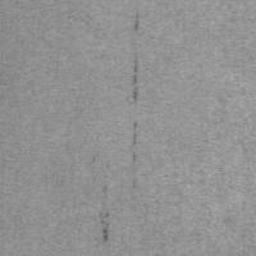Inclusion: (99, 186, 110, 243), (132, 56, 140, 101), (132, 122, 140, 146), (133, 14, 141, 29), (132, 177, 137, 191), (132, 151, 137, 163)
